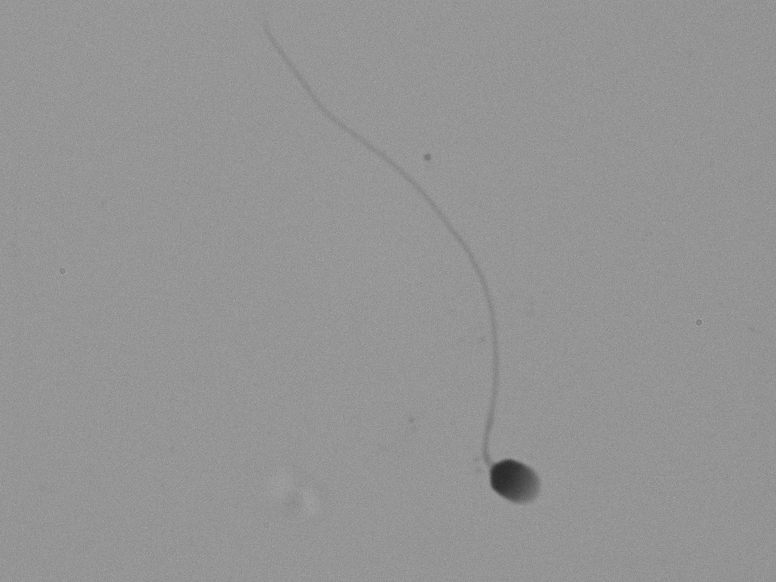Normal: (256, 34, 619, 523)
